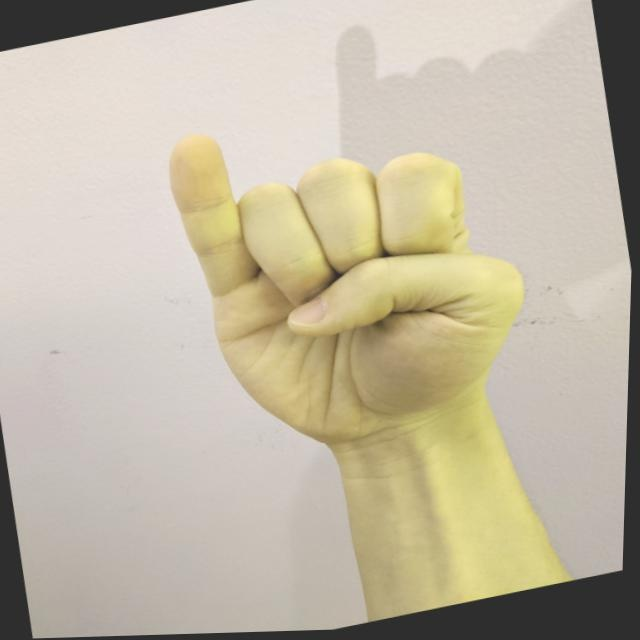I: (147, 66, 565, 485)
